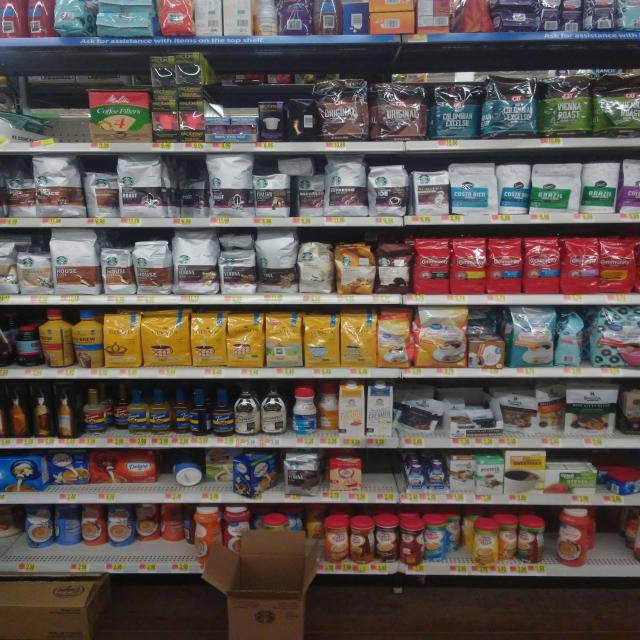empty: (587, 506, 631, 567), (355, 453, 410, 497)
